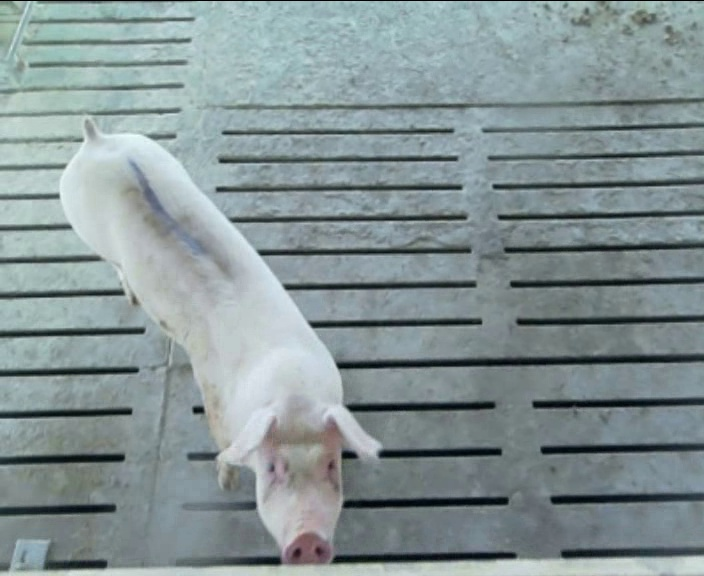pig: (60, 119, 380, 561)
